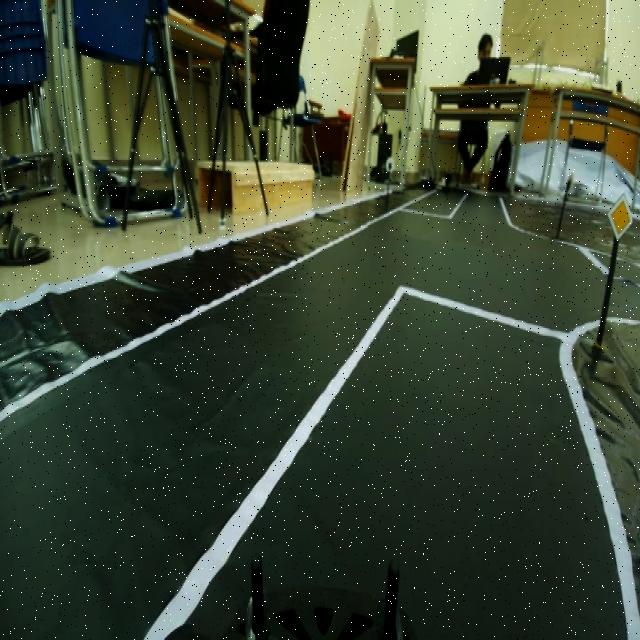priority: (604, 189, 636, 247)
